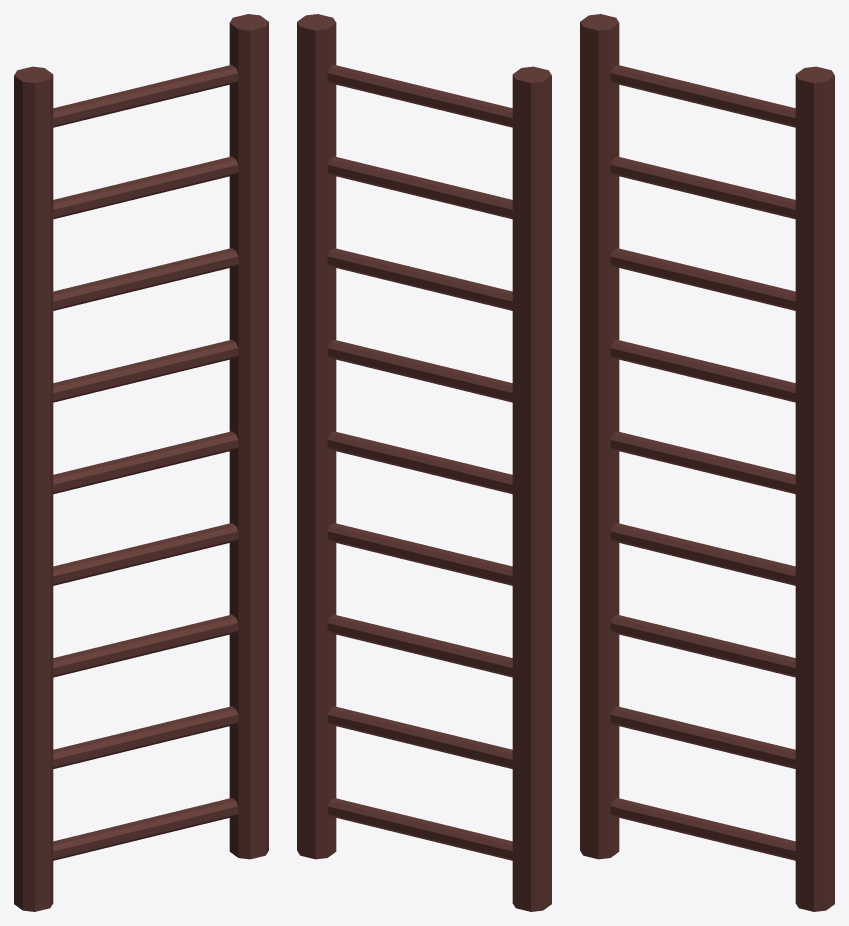
Rendered from GEO_ladder.fbx.
3 renders of one model, left to right at view 1: azimuth 30°, elevation 25°; view 2: azimuth 150°, elevation 25°; view 3: azimuth 330°, elevation 25°, orthographic.
Visible parts, largest first — view 1: GEO_ladder_R, GEO_ladder_L, GEO_step_6, GEO_step_2, GEO_step_8, GEO_step_9, GEO_step_7, GEO_step_4, GEO_step_5, GEO_step_3, GEO_step_1; view 2: GEO_ladder_R, GEO_ladder_L, GEO_step_6, GEO_step_2, GEO_step_8, GEO_step_9, GEO_step_7, GEO_step_4, GEO_step_5, GEO_step_3, GEO_step_1; view 3: GEO_ladder_L, GEO_ladder_R, GEO_step_6, GEO_step_2, GEO_step_8, GEO_step_9, GEO_step_7, GEO_step_4, GEO_step_5, GEO_step_3, GEO_step_1.
Boxes of the visible parts, x1,y1,x2,y2 form: GEO_ladder_R: (14, 66, 53, 911); GEO_ladder_L: (229, 14, 268, 859); GEO_step_6: (53, 339, 238, 402); GEO_step_2: (53, 706, 238, 768); GEO_step_8: (53, 156, 238, 219); GEO_step_9: (53, 64, 238, 127); GEO_step_7: (53, 248, 238, 310); GEO_step_4: (53, 523, 238, 585); GEO_step_5: (53, 431, 238, 494); GEO_step_3: (53, 614, 238, 677); GEO_step_1: (53, 798, 238, 860); GEO_ladder_R: (512, 66, 551, 911); GEO_ladder_L: (297, 14, 336, 859); GEO_step_6: (327, 339, 512, 402); GEO_step_2: (327, 706, 512, 768); GEO_step_8: (327, 156, 512, 219); GEO_step_9: (327, 64, 512, 127); GEO_step_7: (327, 248, 512, 310); GEO_step_4: (327, 523, 512, 585); GEO_step_5: (327, 431, 512, 494); GEO_step_3: (327, 614, 512, 677); GEO_step_1: (327, 798, 512, 860); GEO_ladder_L: (795, 66, 834, 911); GEO_ladder_R: (580, 14, 619, 859); GEO_step_6: (610, 339, 795, 402); GEO_step_2: (610, 706, 795, 768); GEO_step_8: (610, 156, 795, 219); GEO_step_9: (610, 64, 795, 127); GEO_step_7: (610, 248, 795, 310); GEO_step_4: (610, 523, 795, 585); GEO_step_5: (610, 431, 795, 494); GEO_step_3: (610, 614, 795, 677); GEO_step_1: (610, 798, 795, 860).
Bounding box in the file's own units: 183 × 588 × 22.66.
